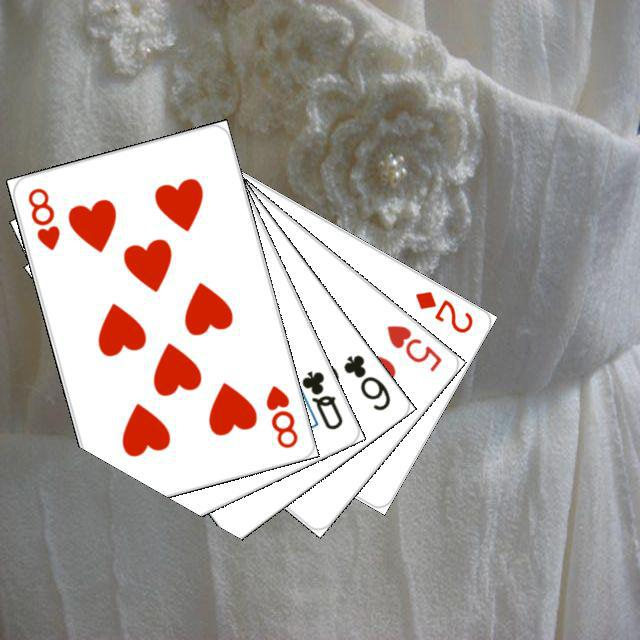2d: (410, 285, 475, 335)
5h: (381, 320, 444, 374)
6c: (338, 349, 393, 413)
8h: (260, 380, 300, 450), (22, 183, 62, 252)
Qc: (286, 365, 345, 432)
